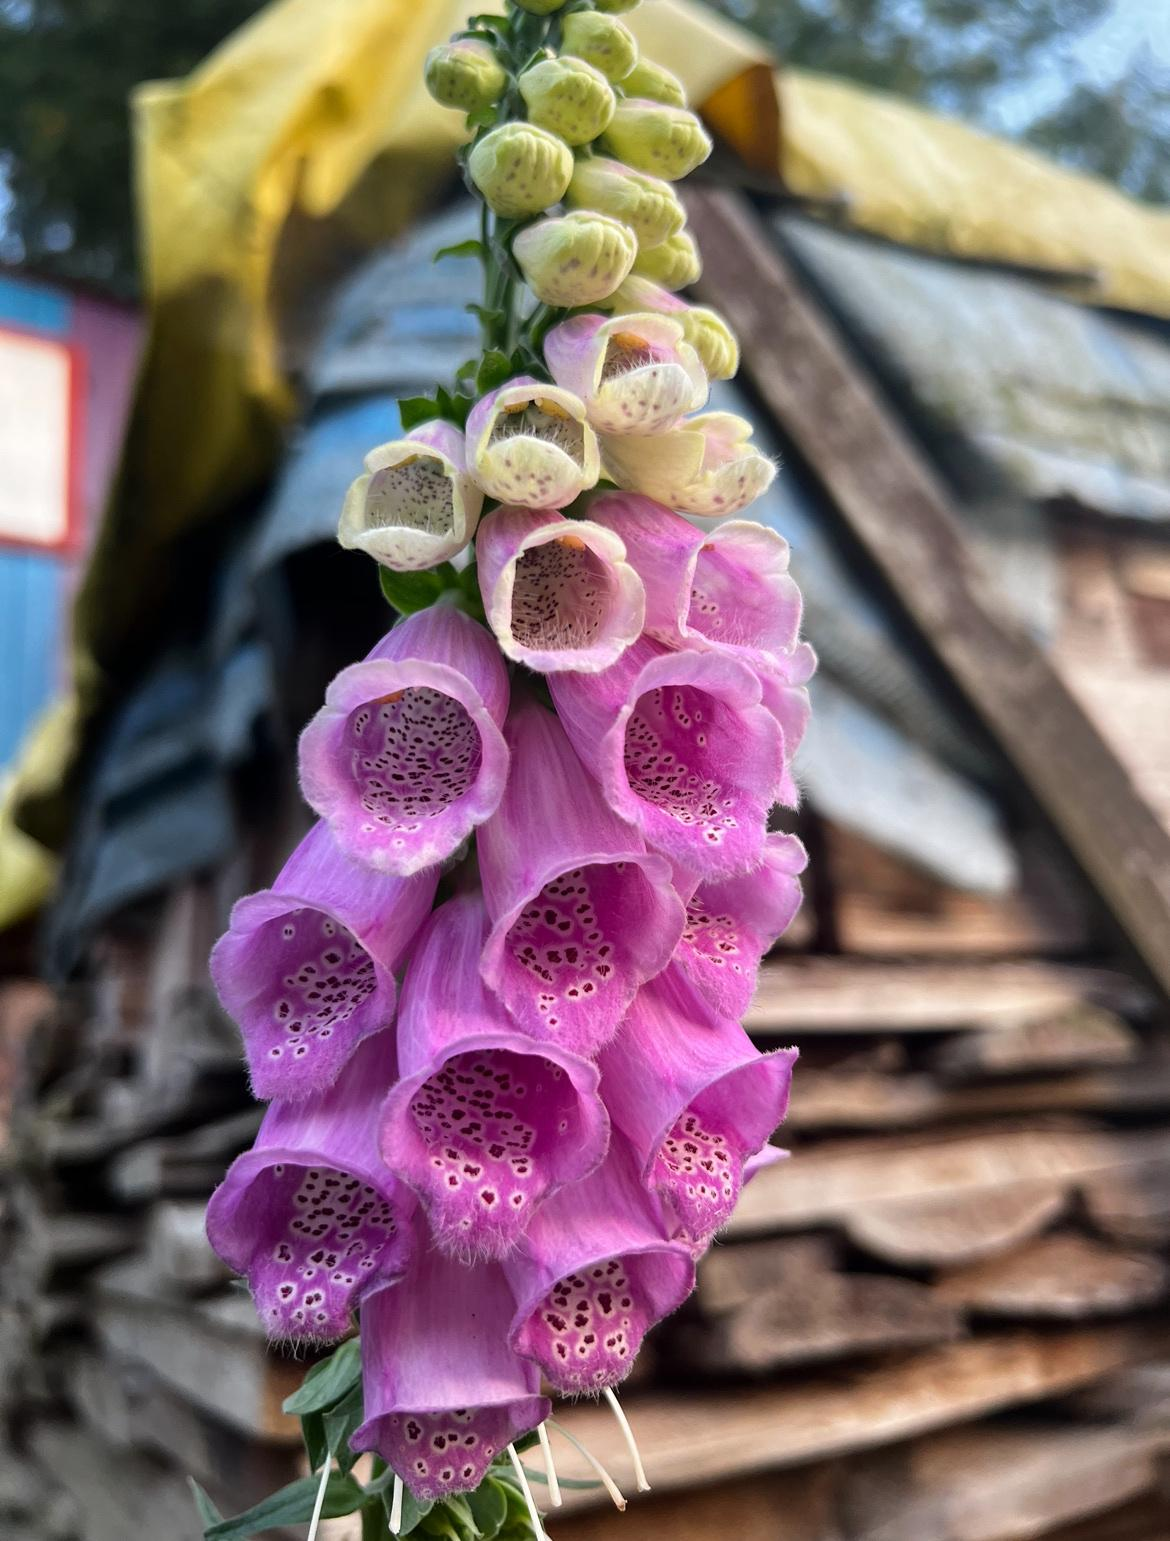Digitalis L: (173, 0, 780, 1536)
